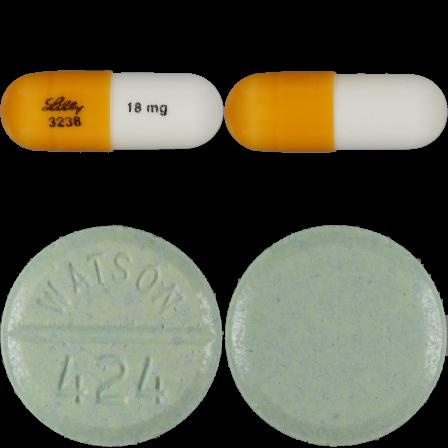16590-337: (0, 0, 224, 224)
